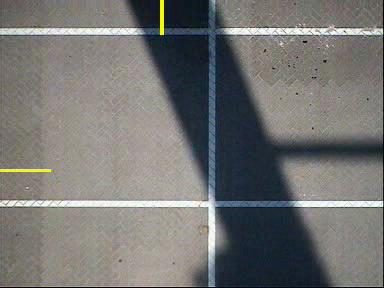groundmarker_2: (146, 186, 225, 241)
